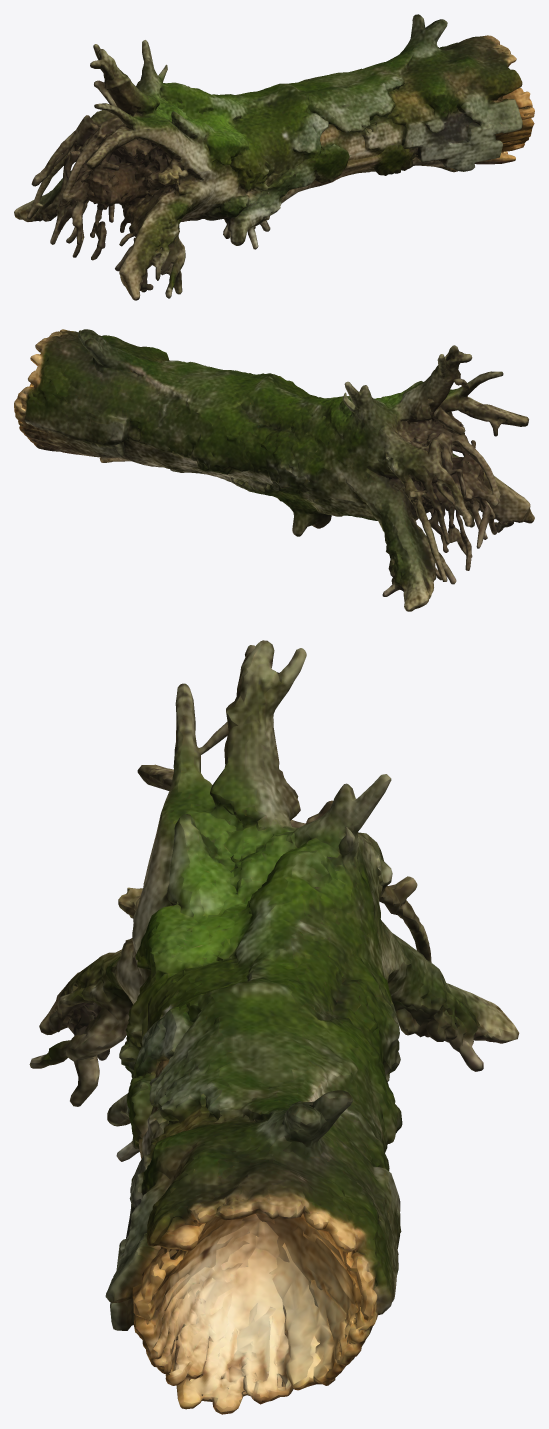
File: r6-fallen-log-r6.glb
The picture shows the model from 3 angles, top to bottom: view 1: azimuth 30°, elevation 25°; view 2: azimuth 150°, elevation 25°; view 3: azimuth 270°, elevation 25°; orthographic projection. The views are drawn at different scales.
Visible parts, largest first — view 1: geometry_0; view 2: geometry_0; view 3: geometry_0.
Part boxes in pixels (x1,y1,x2,y2): geometry_0: (14,14,534,300); geometry_0: (14,329,534,611); geometry_0: (29,640,519,1414).
Size of the model in its own units: 0.849 by 0.3981 by 0.4053.
Materials: 1 (1 with a texture image).
